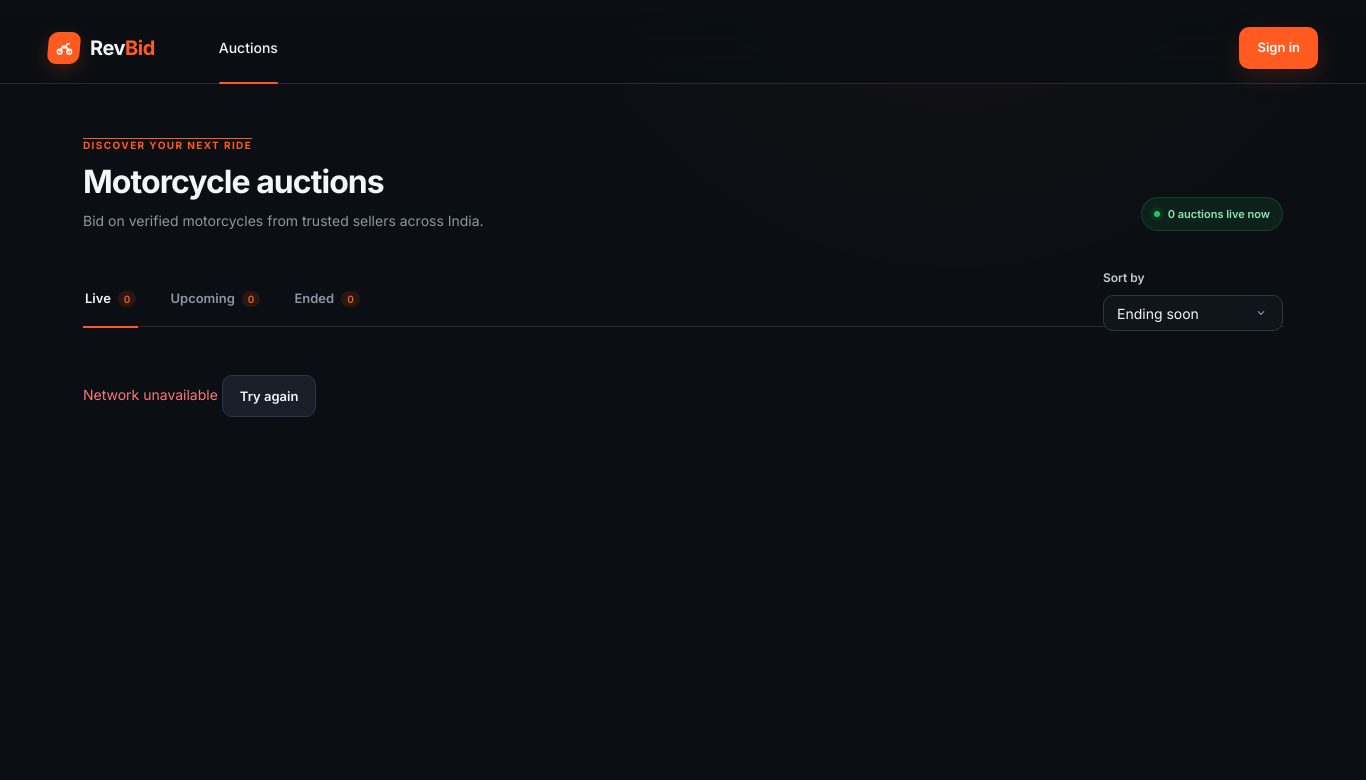
Scenario: AuctionsPage › shows an error and retries the failed request
Expected: the message shows "Network unavailable", [83, 387, 218, 404]
What coordinates should you click on to do the following:
click the button "Try again"
I would click on:
 (269, 396)
Its box is [222, 375, 316, 417].
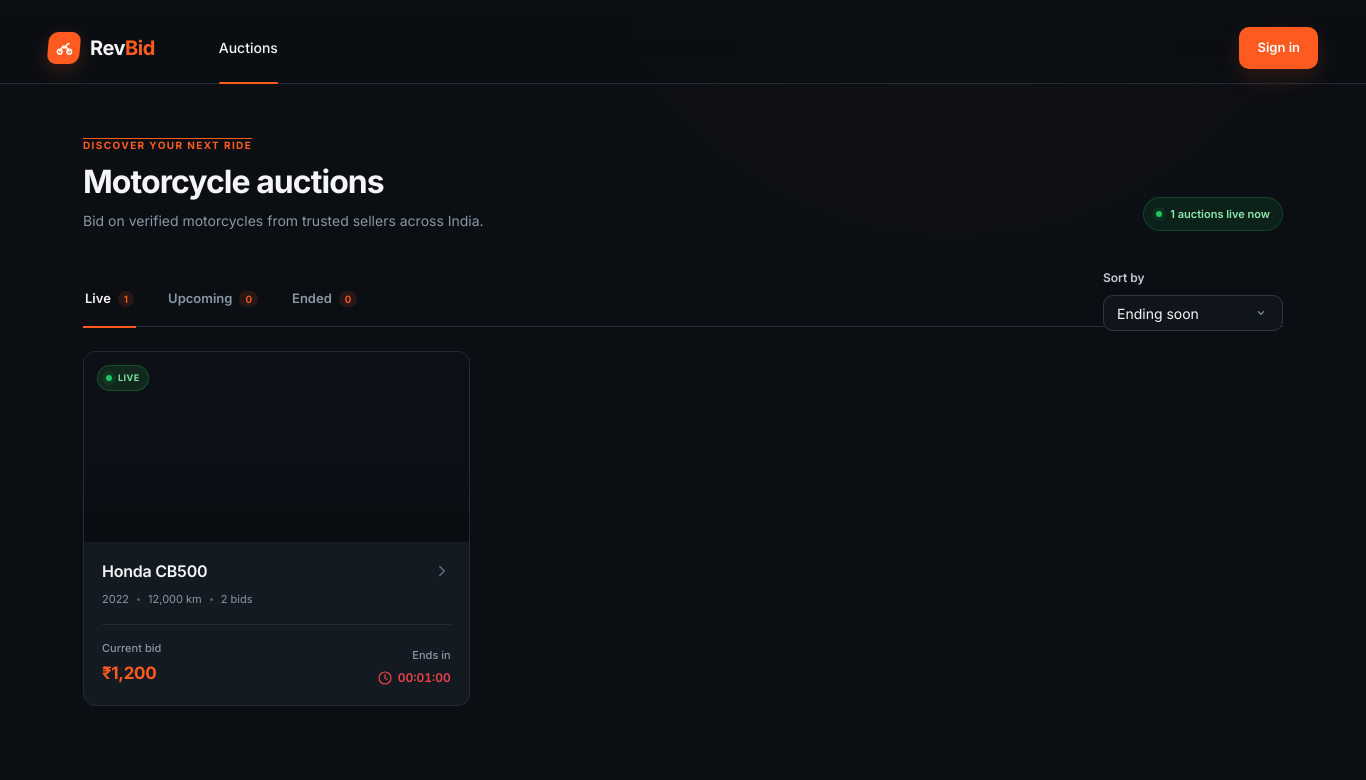
Now the text "Honda CB500" is shown, box [102, 559, 207, 583]
